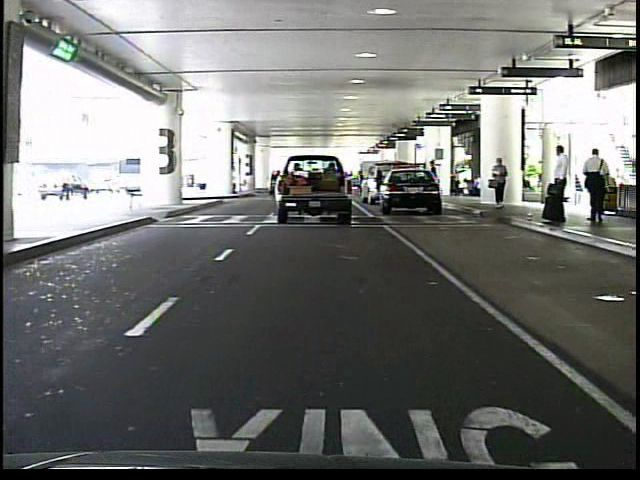person: (581, 145, 614, 228), (541, 143, 573, 228), (489, 153, 514, 214), (429, 158, 443, 202)
